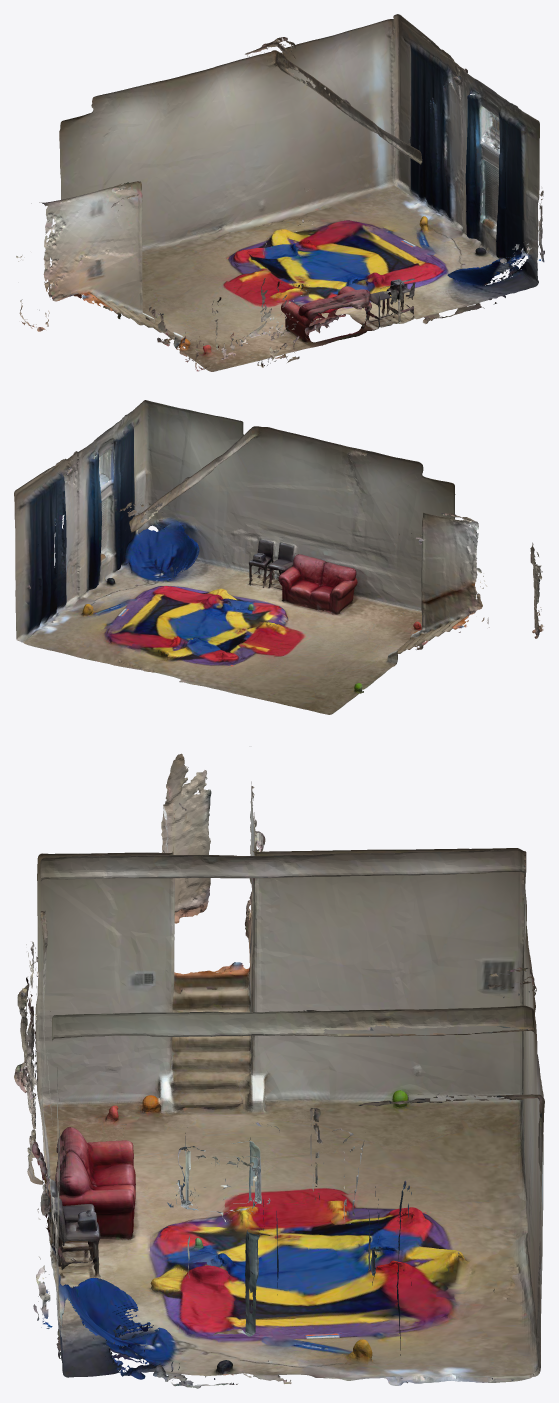
Rendered from room.glb.
The picture shows the model from 3 angles, top to bottom: view 1: azimuth 30°, elevation 25°; view 2: azimuth 150°, elevation 25°; view 3: azimuth 270°, elevation 25°; orthographic projection. The views are drawn at different scales.
Visible parts, largest first — view 1: mesh; view 2: mesh; view 3: mesh.
Part boxes in pixels (x1=…): mesh: x1=16, y1=14, x2=544, y2=371; mesh: x1=14, y1=400, x2=543, y2=714; mesh: x1=14, y1=753, x2=544, y2=1388.
Size of the model in its own units: 12.52 by 4.49 by 6.81.
Materials: 1 (1 with a texture image).
